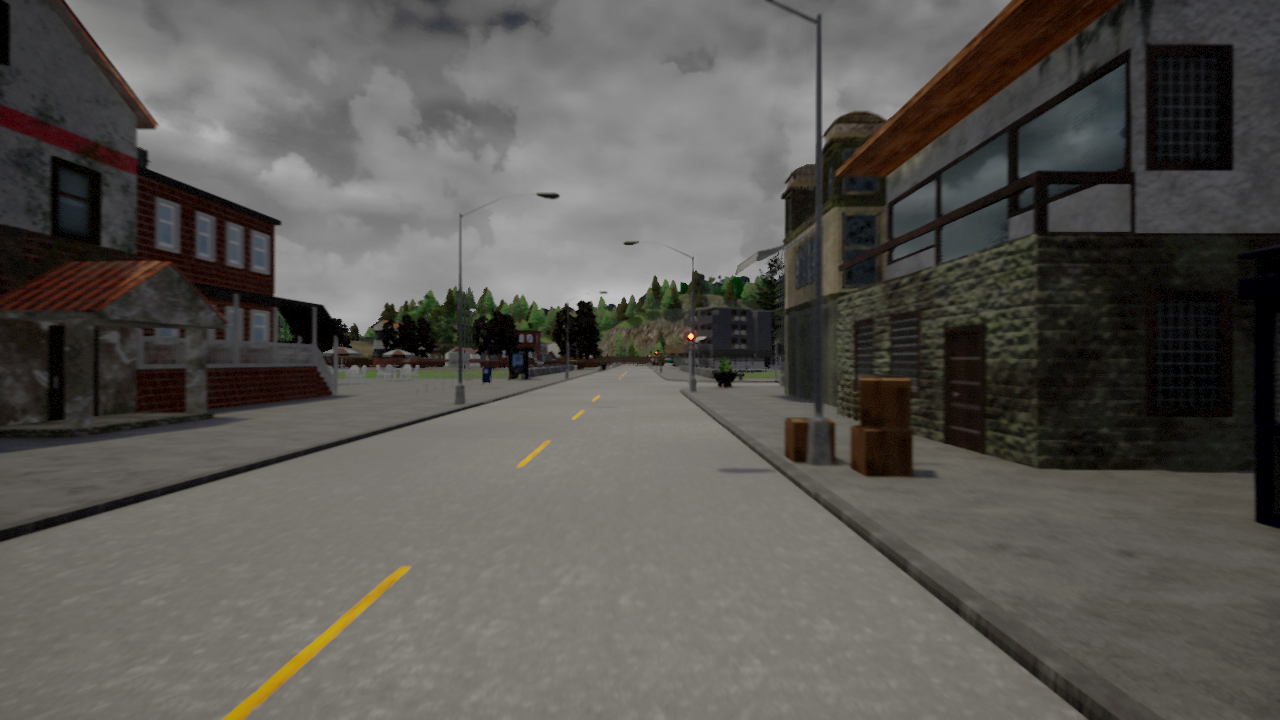red: (687, 332, 694, 351)
